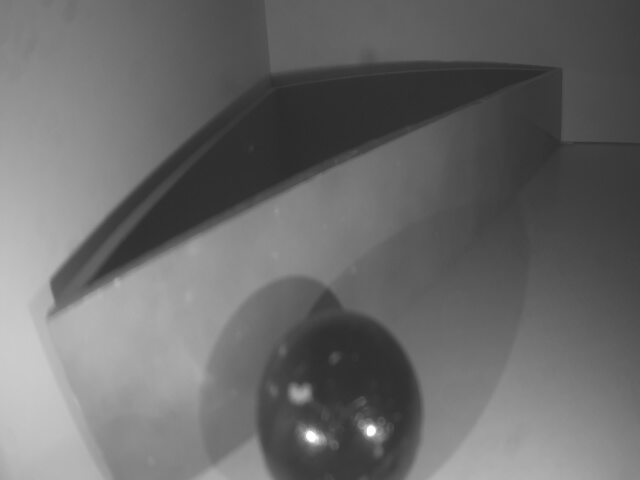Dead: (258, 322, 419, 480)
Green: (49, 70, 563, 480)
